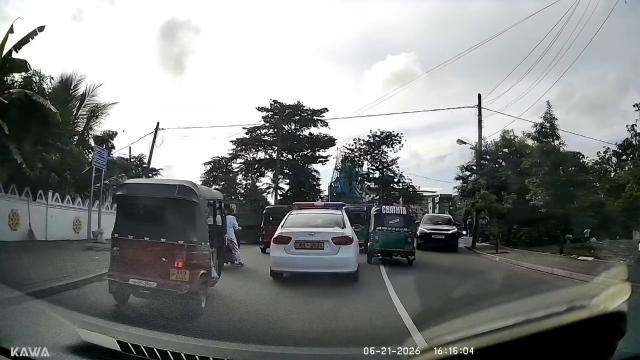illegal overtaking: (364, 202, 420, 267)
